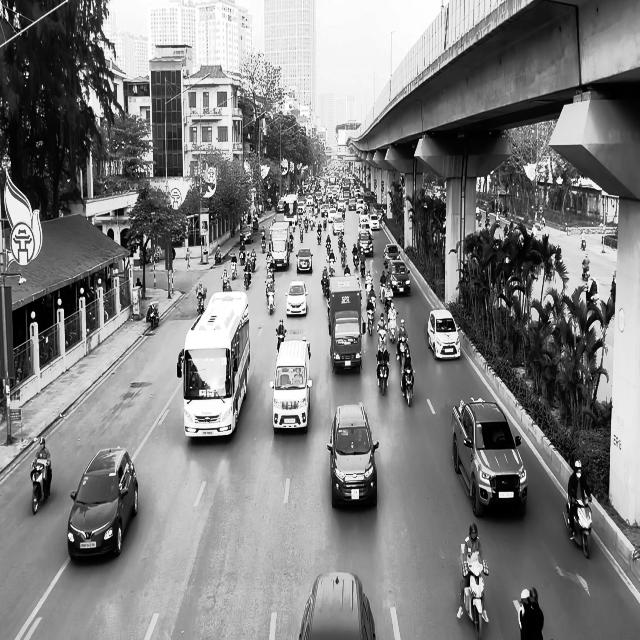bus: (177, 291, 250, 438)
car: (451, 396, 528, 517), (68, 446, 138, 560), (326, 403, 378, 508), (298, 572, 376, 640), (270, 332, 312, 434), (426, 309, 461, 360), (284, 280, 309, 316), (296, 247, 313, 273)
motorbike: (562, 495, 592, 559), (29, 461, 52, 514), (376, 351, 390, 395), (400, 368, 415, 407), (265, 284, 275, 315), (148, 303, 159, 328), (276, 327, 286, 354), (196, 292, 205, 314)
truck: (327, 275, 365, 374)
